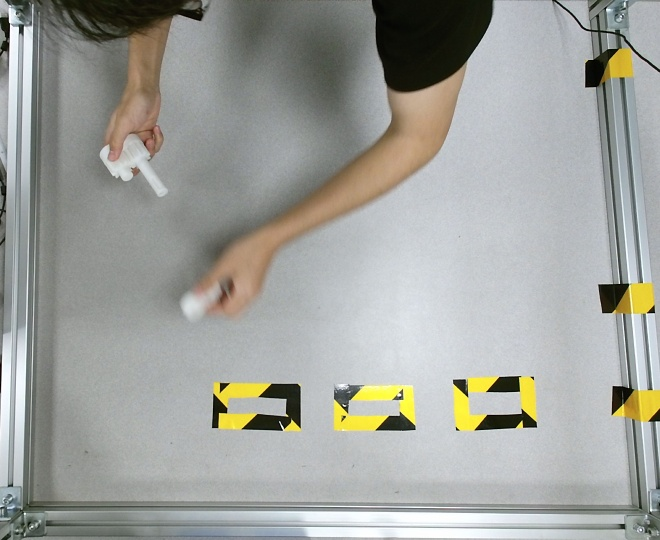stage_3: (100, 131, 166, 198)
